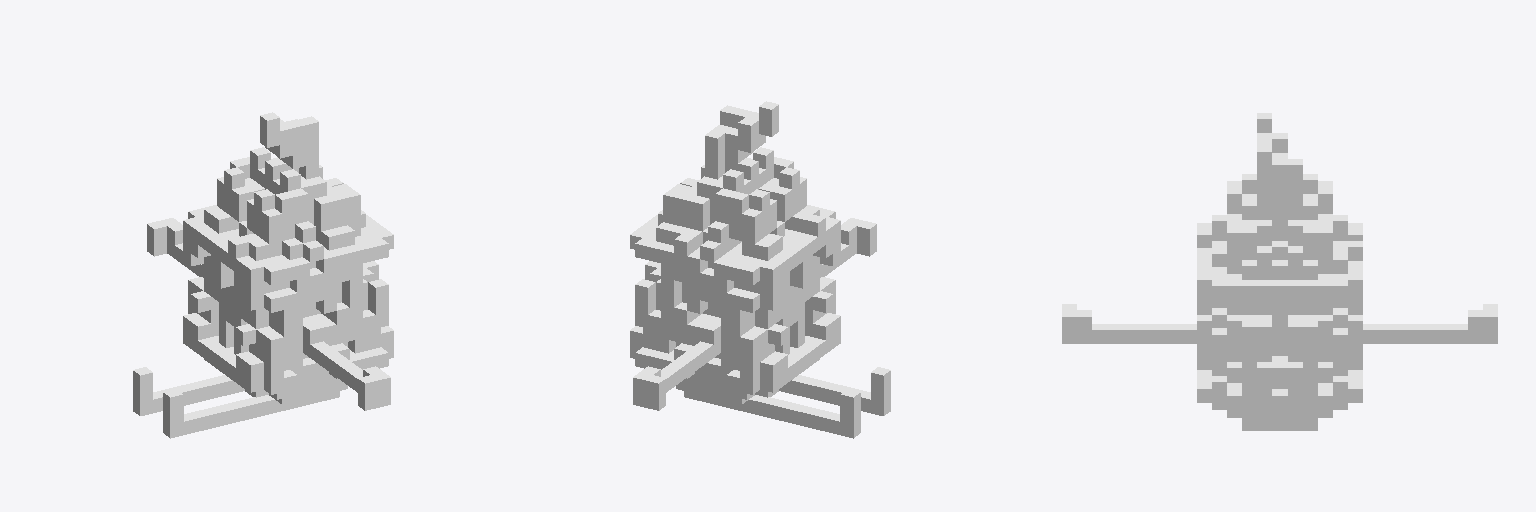
Rendered from pear.obj.
The picture shows the model from 3 angles: view 1: azimuth 30°, elevation 25°; view 2: azimuth 150°, elevation 25°; view 3: azimuth 270°, elevation 25°; orthographic projection.
Parts seen in each view (by area): view 1: object 1; view 2: object 1; view 3: object 1.
Boxes of the visible parts, <box> form: object 1: <box>133,112,393,438</box>; object 1: <box>630,101,890,438</box>; object 1: <box>1062,113,1497,430</box>.
Bounding box in the file's own units: 1.6 × 2.1 × 2.9.